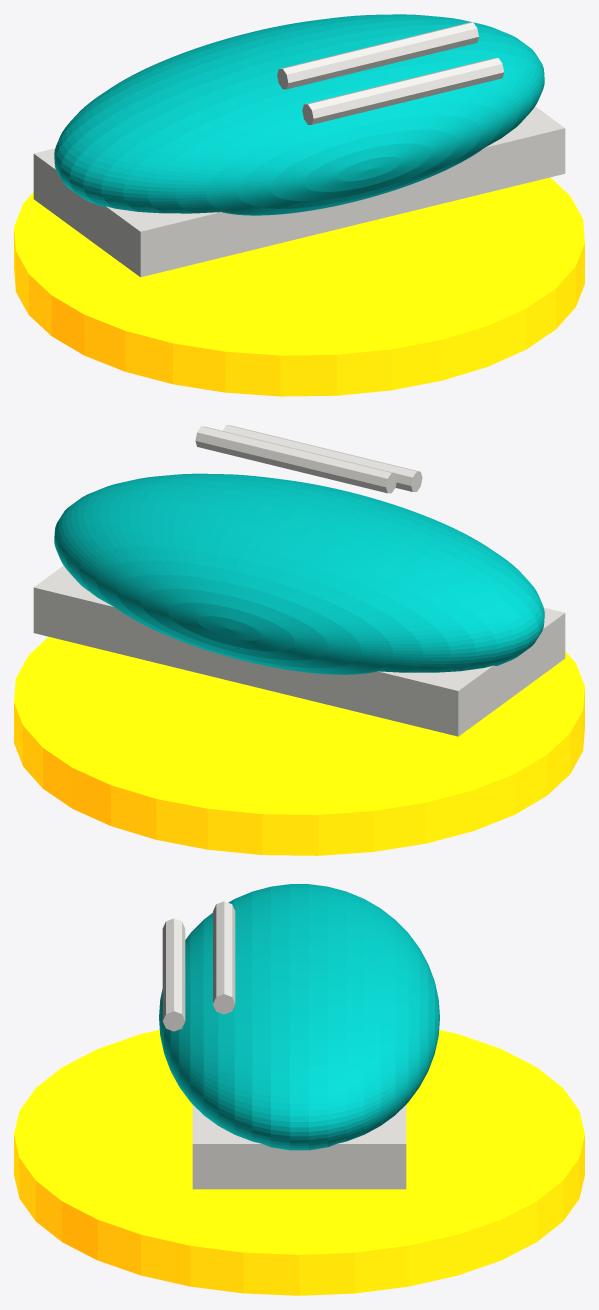
File: fitness_running_shoe.glb
3 renders of one model, top to bottom at view 1: azimuth 30°, elevation 25°; view 2: azimuth 150°, elevation 25°; view 3: azimuth 270°, elevation 25°, orthographic.
Parts seen in each view (by area): view 1: 02_04_Popular_Fitness_Running_Shoe_ROOT_base, 02_04_Popular_Fitness_Running_Shoe_part_01, 02_04_Popular_Fitness_Running_Shoe_part_02, 02_04_Popular_Fitness_Running_Shoe_part_04, 02_04_Popular_Fitness_Running_Shoe_part_03; view 2: 02_04_Popular_Fitness_Running_Shoe_ROOT_base, 02_04_Popular_Fitness_Running_Shoe_part_01, 02_04_Popular_Fitness_Running_Shoe_part_02, 02_04_Popular_Fitness_Running_Shoe_part_04, 02_04_Popular_Fitness_Running_Shoe_part_03; view 3: 02_04_Popular_Fitness_Running_Shoe_ROOT_base, 02_04_Popular_Fitness_Running_Shoe_part_01, 02_04_Popular_Fitness_Running_Shoe_part_02, 02_04_Popular_Fitness_Running_Shoe_part_03, 02_04_Popular_Fitness_Running_Shoe_part_04.
Part boxes in pixels (x1=…): 02_04_Popular_Fitness_Running_Shoe_ROOT_base: x1=14, y1=177, x2=584, y2=396; 02_04_Popular_Fitness_Running_Shoe_part_01: x1=54, y1=14, x2=544, y2=215; 02_04_Popular_Fitness_Running_Shoe_part_02: x1=33, y1=106, x2=565, y2=277; 02_04_Popular_Fitness_Running_Shoe_part_04: x1=277, y1=22, x2=478, y2=89; 02_04_Popular_Fitness_Running_Shoe_part_03: x1=302, y1=58, x2=503, y2=124; 02_04_Popular_Fitness_Running_Shoe_ROOT_base: x1=14, y1=636, x2=584, y2=855; 02_04_Popular_Fitness_Running_Shoe_part_01: x1=54, y1=473, x2=544, y2=674; 02_04_Popular_Fitness_Running_Shoe_part_02: x1=33, y1=565, x2=565, y2=736; 02_04_Popular_Fitness_Running_Shoe_part_04: x1=195, y1=426, x2=397, y2=493; 02_04_Popular_Fitness_Running_Shoe_part_03: x1=222, y1=425, x2=422, y2=491; 02_04_Popular_Fitness_Running_Shoe_ROOT_base: x1=14, y1=1030, x2=584, y2=1295; 02_04_Popular_Fitness_Running_Shoe_part_01: x1=159, y1=884, x2=439, y2=1150; 02_04_Popular_Fitness_Running_Shoe_part_02: x1=192, y1=1105, x2=406, y2=1189; 02_04_Popular_Fitness_Running_Shoe_part_03: x1=162, y1=918, x2=185, y2=1031; 02_04_Popular_Fitness_Running_Shoe_part_04: x1=213, y1=901, x2=235, y2=1014.
Bounding box in the file's own units: 0.76 × 0.3633 × 0.76.
